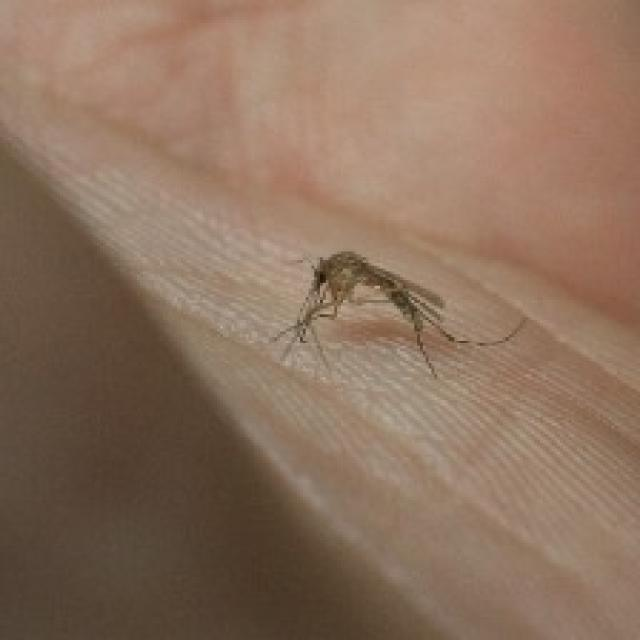culex: (268, 246, 526, 380)
